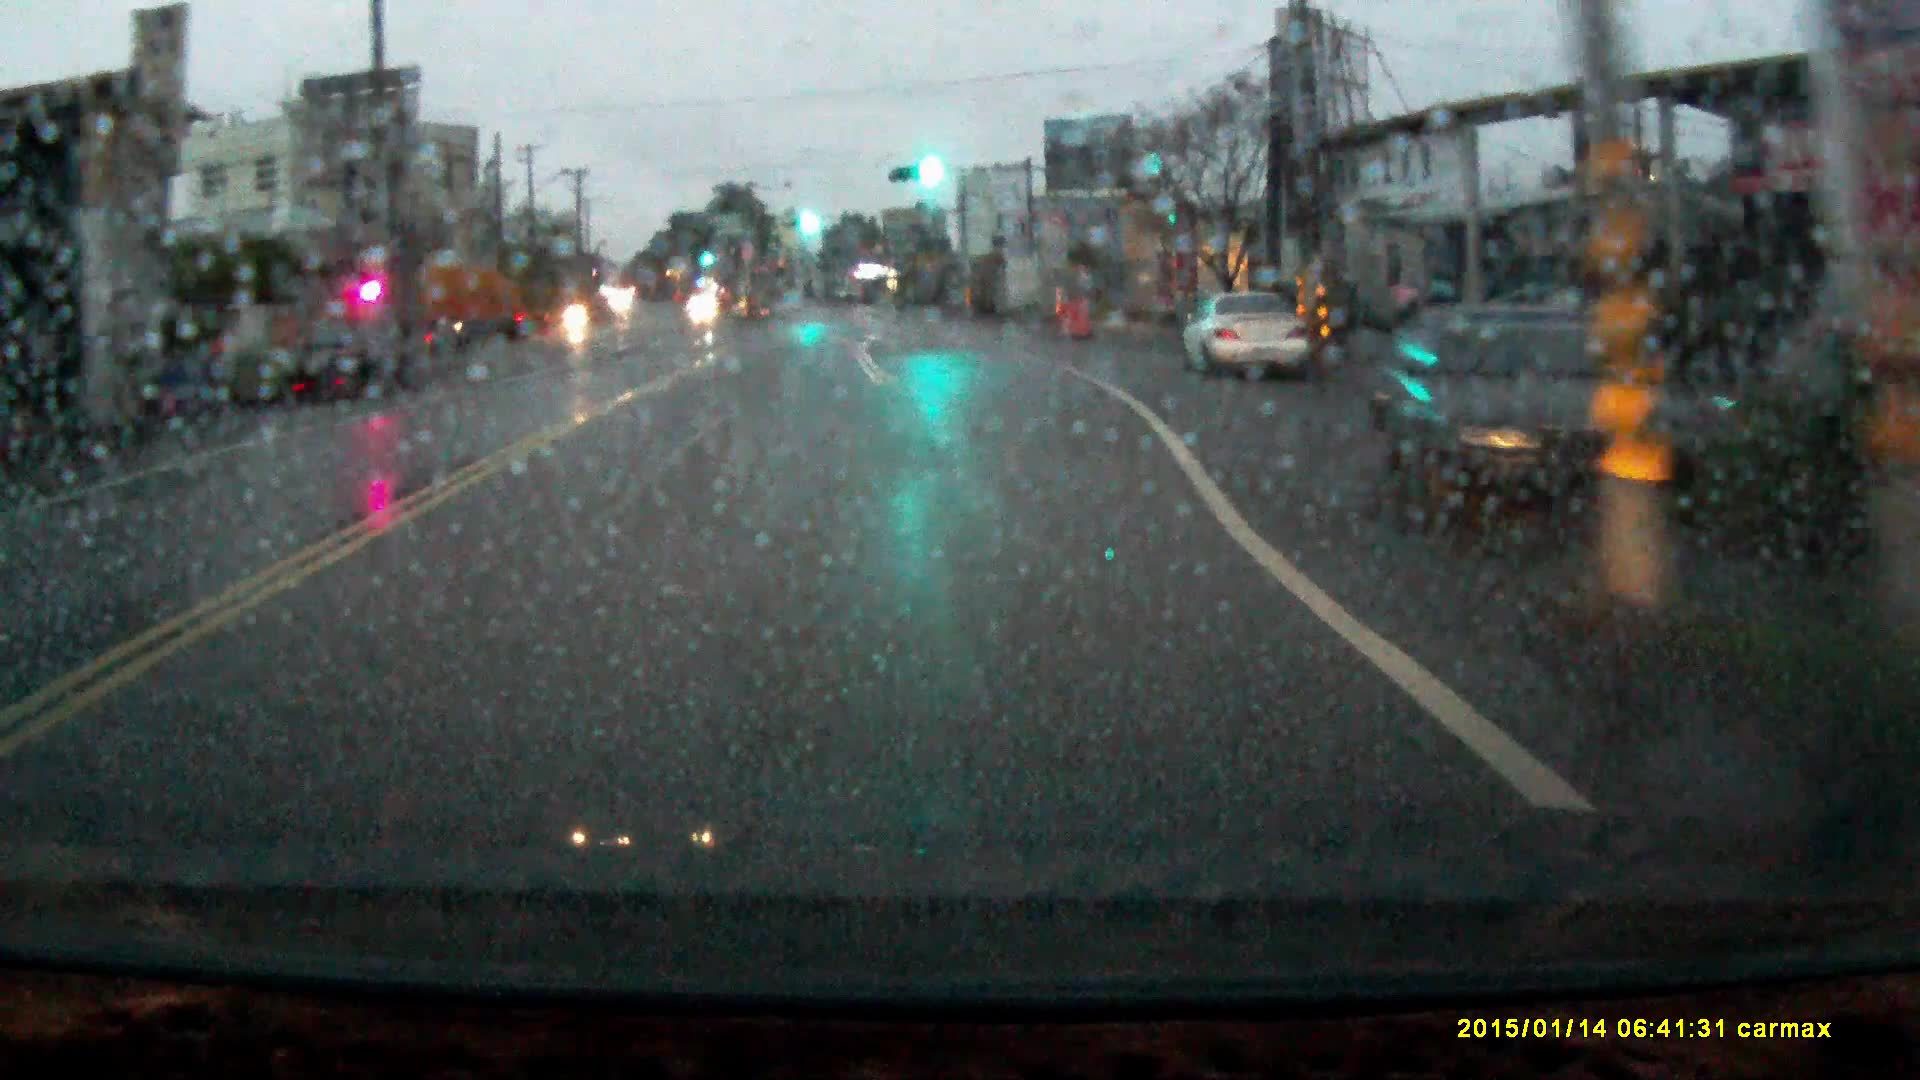rider: (558, 289, 593, 349)
vehicle: (1366, 319, 1685, 525), (1178, 288, 1307, 380), (411, 264, 535, 345), (281, 319, 413, 396), (689, 296, 717, 319)
